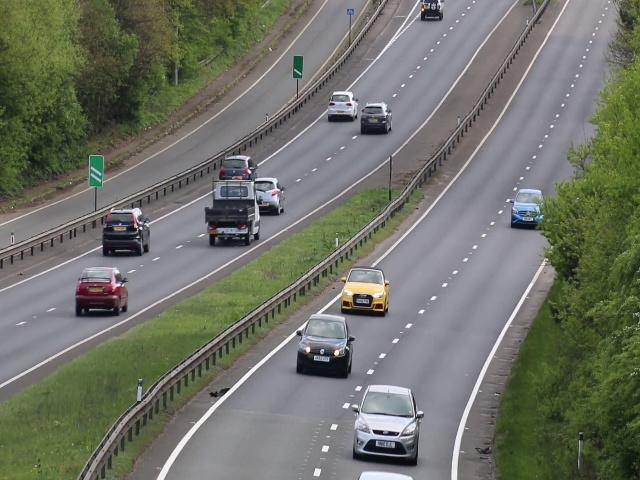car: (352, 386, 418, 462), (295, 313, 354, 378), (201, 181, 259, 245), (75, 265, 129, 316), (337, 267, 392, 314), (102, 208, 151, 257), (508, 188, 547, 228), (359, 101, 393, 135), (259, 173, 286, 215), (327, 88, 359, 122), (219, 153, 255, 179), (421, 1, 445, 20)
